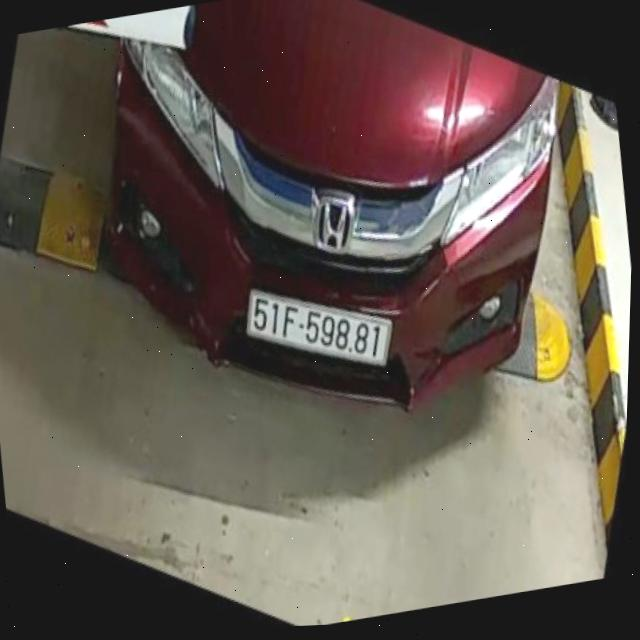car: (62, 0, 601, 471)
plate: (236, 261, 400, 390)
